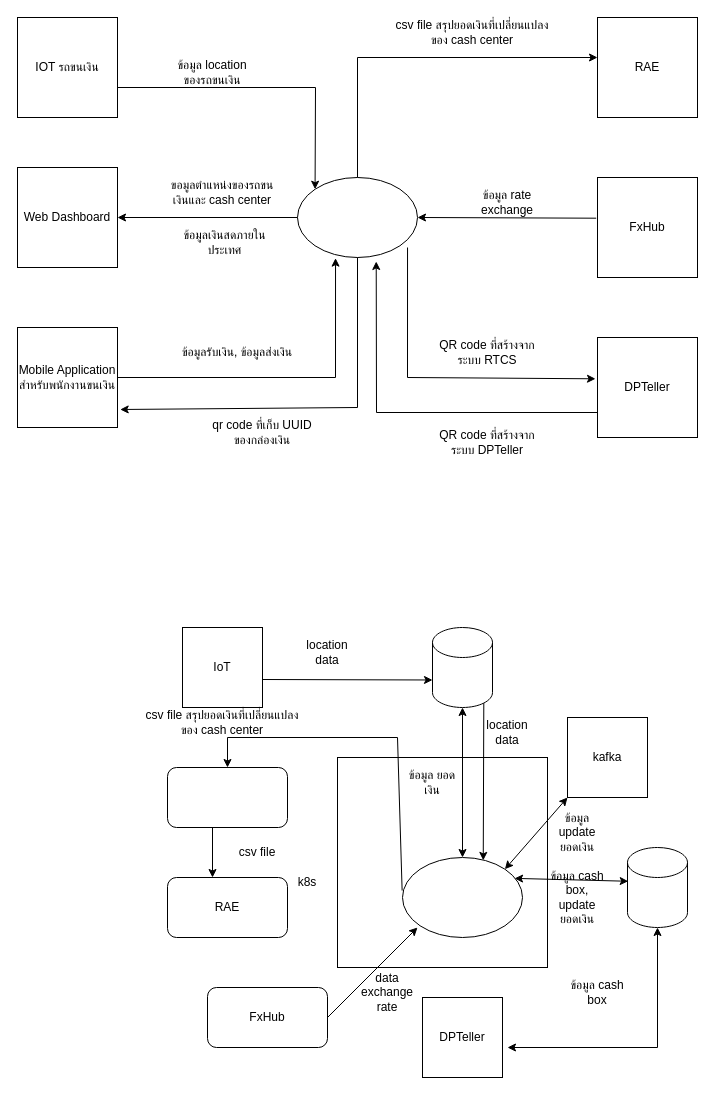
Some shapes in this 715 by 1095 pixel diagram are drawn without their labels. Each missing label, with the centre of its shape:
DB: (x=657, y=887)
firebase real tiem: (x=462, y=667)
RTCS: (x=462, y=897)
RTCS (cash center): (x=357, y=217)
SFTP: (x=227, y=797)
